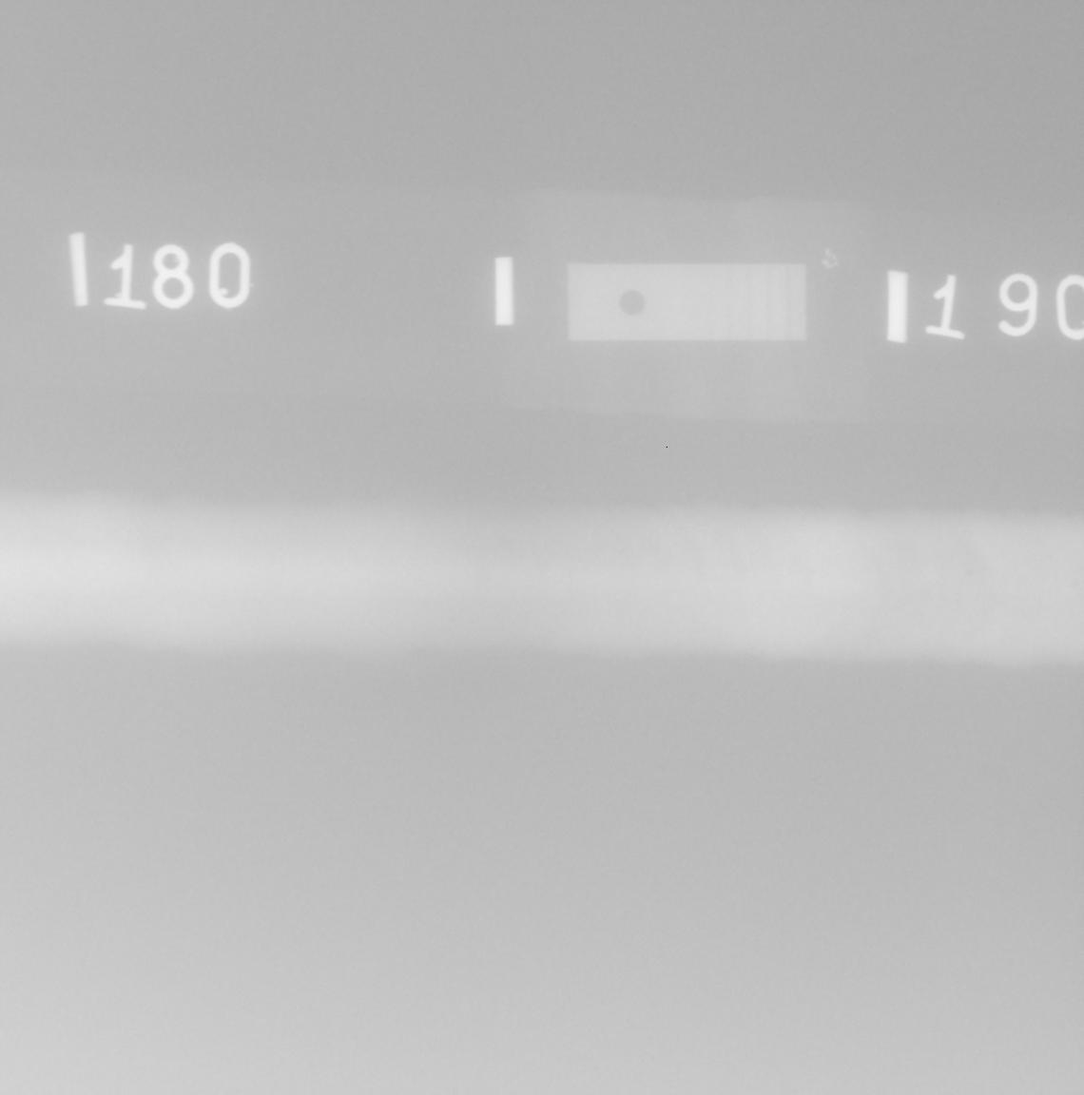Pore/Porosity: (1067, 577, 1082, 591), (963, 567, 977, 578)
Reference Standard 1: (568, 262, 807, 342)
